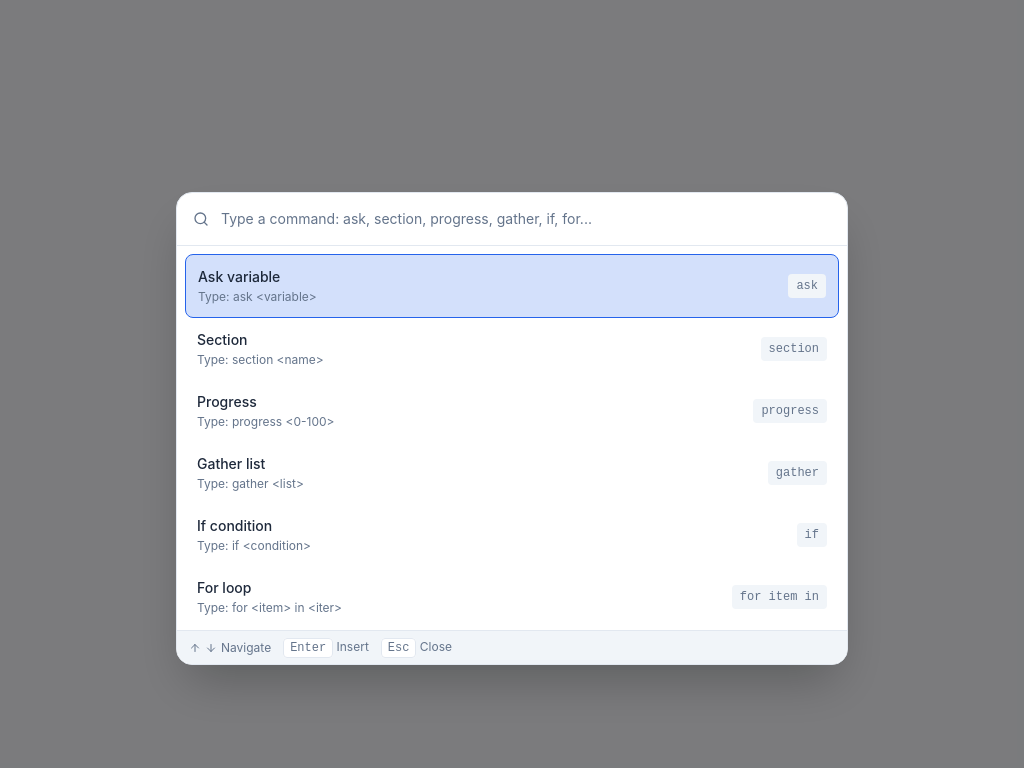
Scenario: CommandPalette › shows variable suggestions when typing "ask" (without space)
Type "ask" into the field with placeholder "Type a command: ask, section, progress, gather, if, for..." at (526, 219), box [221, 209, 831, 229]
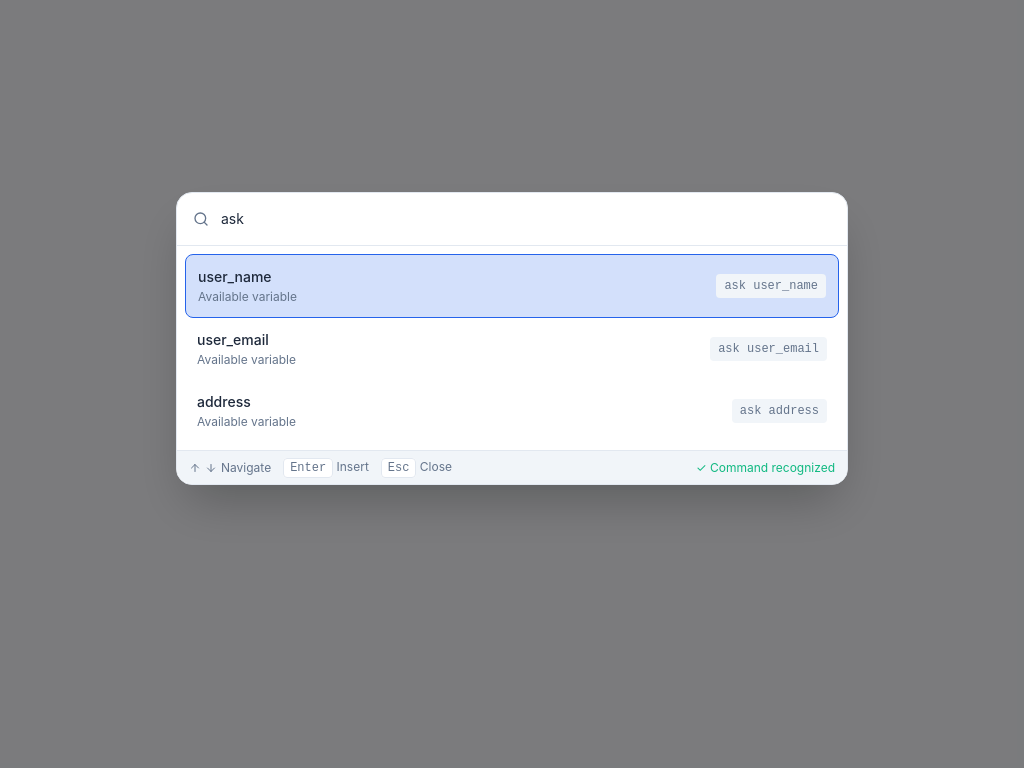
Check: the text "user_name" is shown, box [198, 268, 272, 285]
Check: the text "user_email" is shown, box [197, 331, 269, 348]
Check: the text "address" is shown, box [197, 393, 251, 410]
